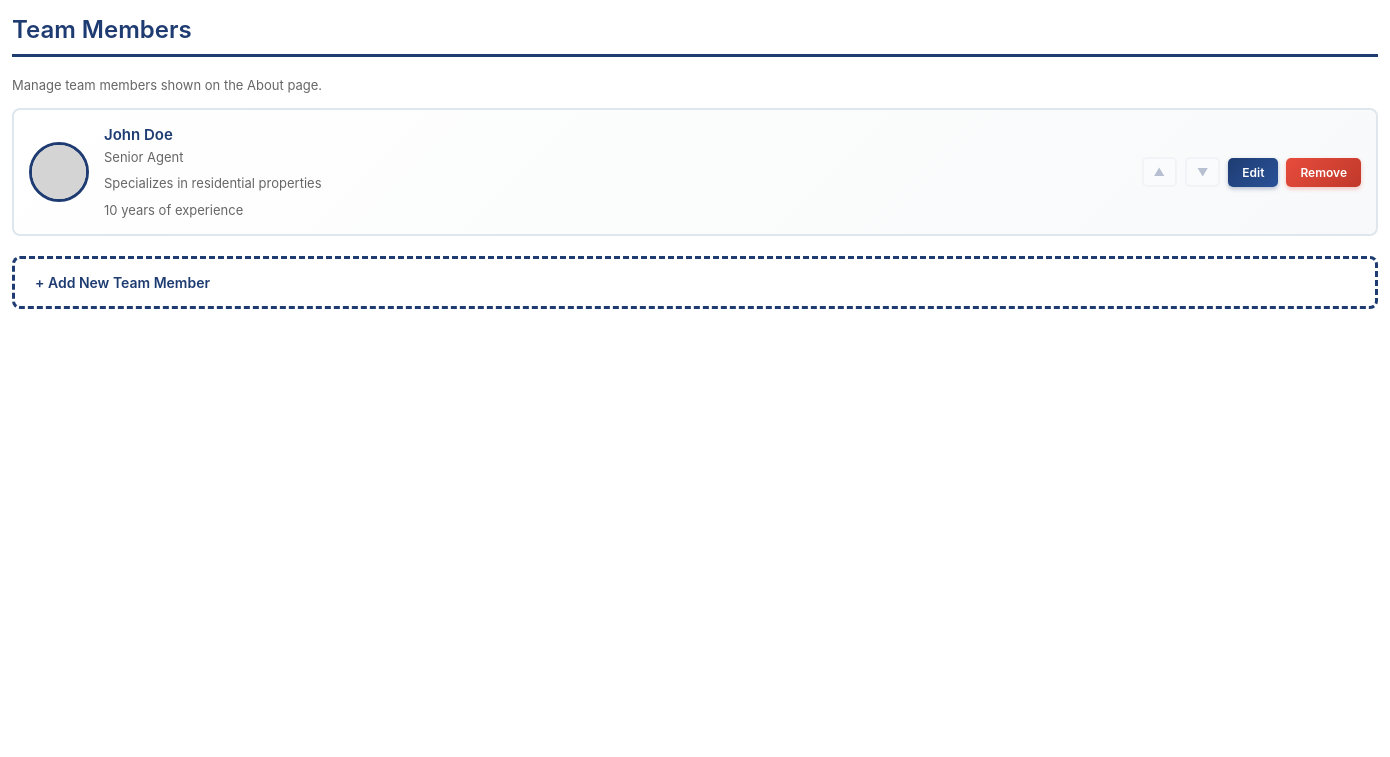
Test case: TeamMembersTab - Description Display in View Mode (Task 7.1) › should hide descriptions when entering edit mode
The image size is (1390, 757).
Check: the text "John Doe" is shown, box [104, 125, 173, 144]
Check: the text "Specializes in residential properties" is shown, box [104, 175, 322, 191]
Note: Click edit button
Click the button "Edit" at coordinates (1253, 172), box [1228, 158, 1278, 187]
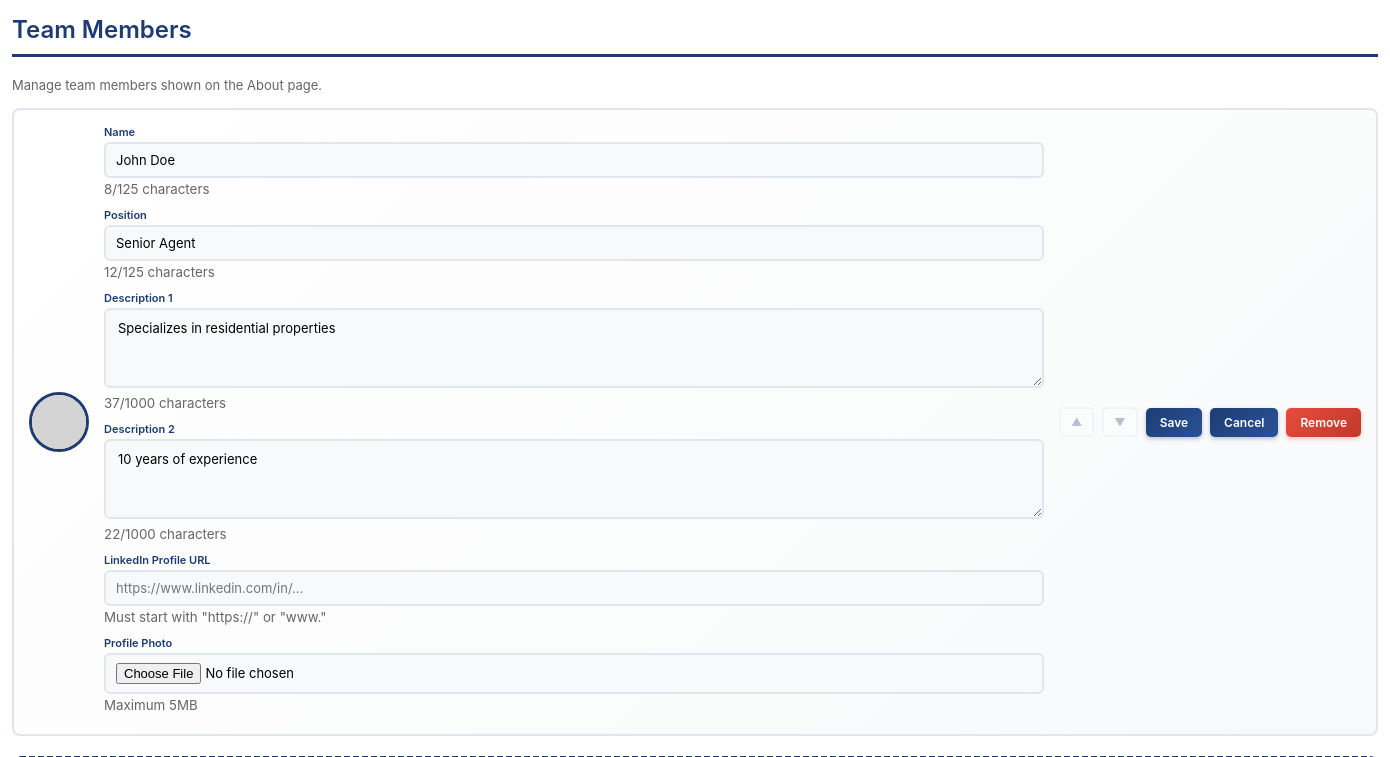
Check: the text box with placeholder "Description 1" below "Description 1" is shown, box [104, 308, 1044, 388]
Check: the text box with placeholder "Description 2" below "Description 2" is shown, box [104, 439, 1044, 519]
